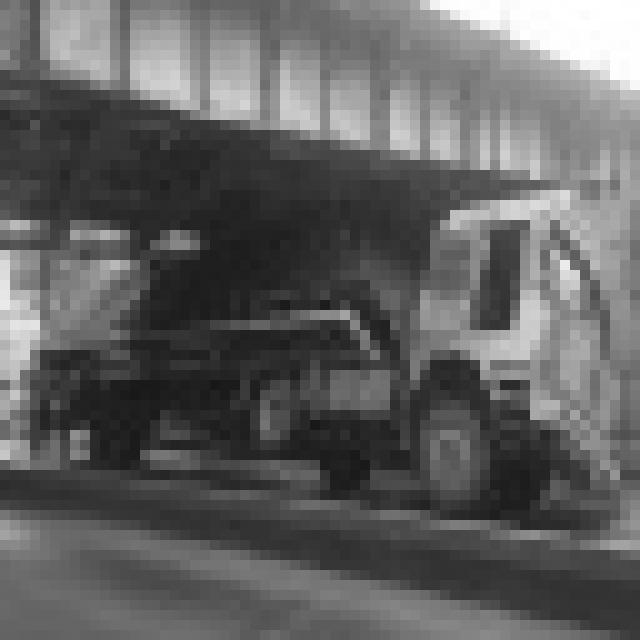trucks: (13, 177, 626, 522)
